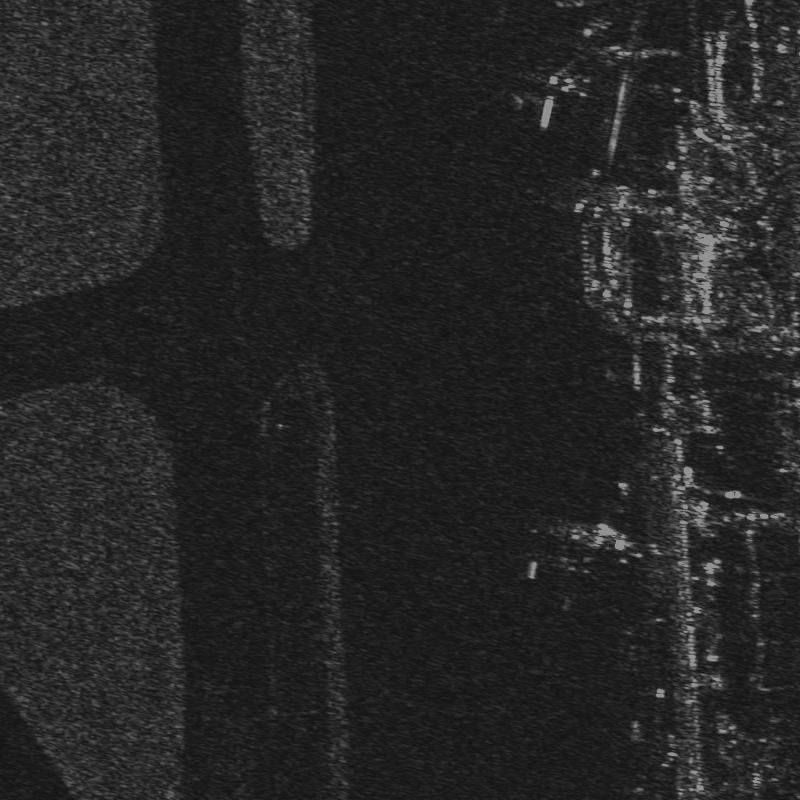A220: (517, 512, 656, 582)
